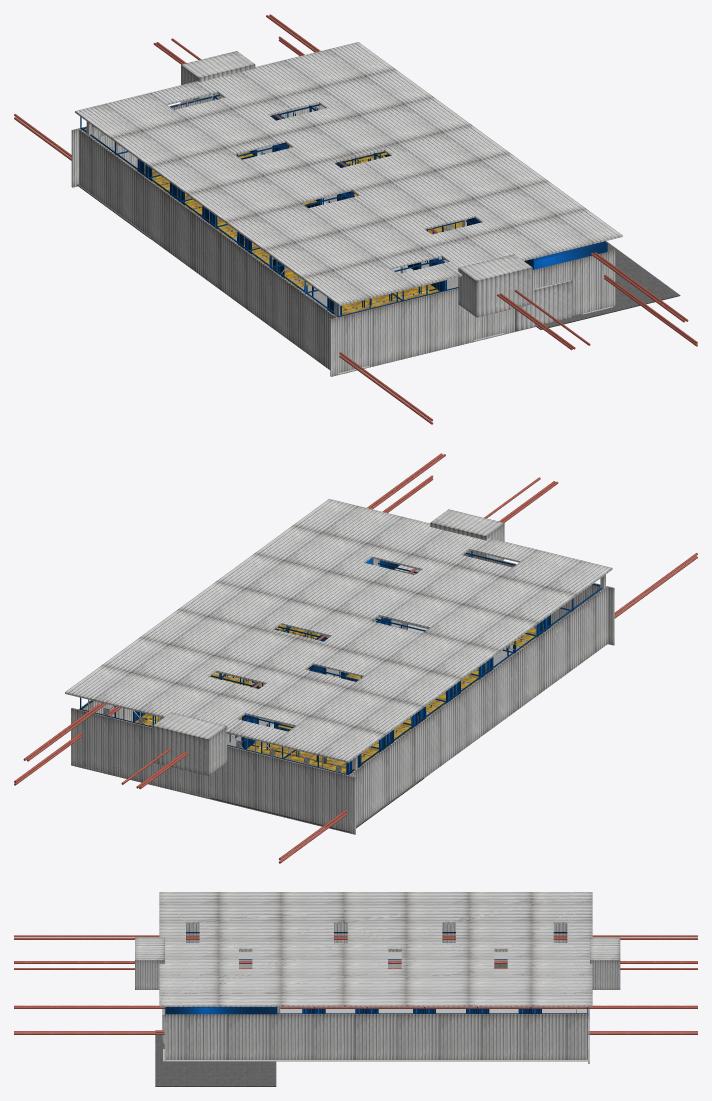
Rendered from mall.obj.
3 renders of one model, top to bottom at view 1: azimuth 30°, elevation 25°; view 2: azimuth 150°, elevation 25°; view 3: azimuth 270°, elevation 25°, orthographic. The views are drawn at different scales.
Parts seen in each view (by area): view 1: Box021, Box022, Box024, Box147, Box093, Box146, Box148, Box025, Box141, Plane001, Box020; view 2: Box021, Box022, Box025, Box148, Box147, Box024, Plane001, Box020; view 3: Box021, Box023, Box093, Box148, Box147, Cylinder009, Box022, Box165, Cylinder002, Box141, Box175, Cylinder007 (+7 smaller).
Boxes of the visible parts, <box> form: Box021: <box>75,42,622,305</box>; Box022: <box>79,129,337,369</box>; Box024: <box>330,250,615,376</box>; Box147: <box>458,254,532,317</box>; Box093: <box>77,170,680,329</box>; Box146: <box>515,280,572,330</box>; Box148: <box>181,51,255,100</box>; Box025: <box>71,94,325,187</box>; Box141: <box>467,217,607,269</box>; Plane001: <box>218,146,461,314</box>; Box020: <box>81,96,472,313</box>; Box021: <box>65,499,612,762</box>; Box022: <box>349,586,607,825</box>; Box025: <box>71,708,355,834</box>; Box148: <box>152,712,227,775</box>; Box147: <box>430,509,504,560</box>; Box024: <box>463,552,614,645</box>; Plane001: <box>227,617,543,763</box>; Box020: <box>81,554,602,774</box>; Box021: <box>159,892,592,1006</box>; Box023: <box>165,1014,587,1059</box>; Box093: <box>155,964,507,1086</box>; Box148: <box>590,937,620,989</box>; Box147: <box>135,937,164,989</box>; Cylinder009: <box>14,1007,697,1008</box>; Box022: <box>186,923,567,951</box>; Box165: <box>280,1009,588,1017</box>; Cylinder002: <box>14,935,697,937</box>; Box141: <box>165,1007,276,1014</box>; Box175: <box>163,1049,588,1061</box>; Cylinder007: <box>14,1033,697,1034</box>.
Bounding box in the file's own units: 38.39 × 8.29 × 80.72.
